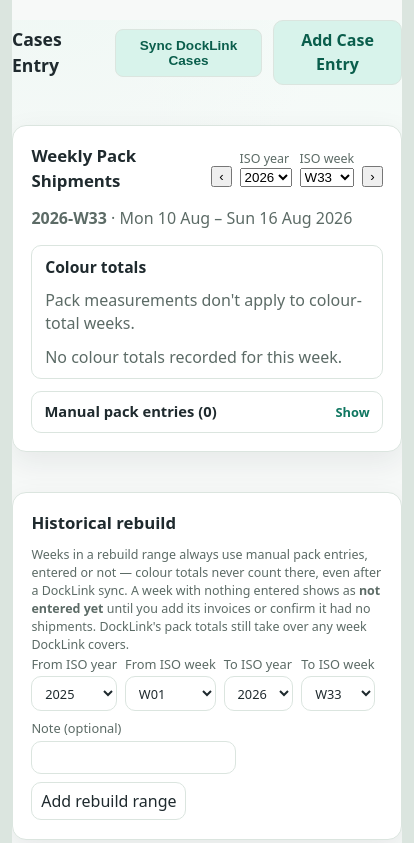
desktop Sync DockLink Cases — pinned behaviour › a real pack sync failure is shown as an error after the colour sync's summary
Click the button "Sync DockLink Cases" at coordinates (188, 52), box x1=115 y1=28 x2=262 y2=76
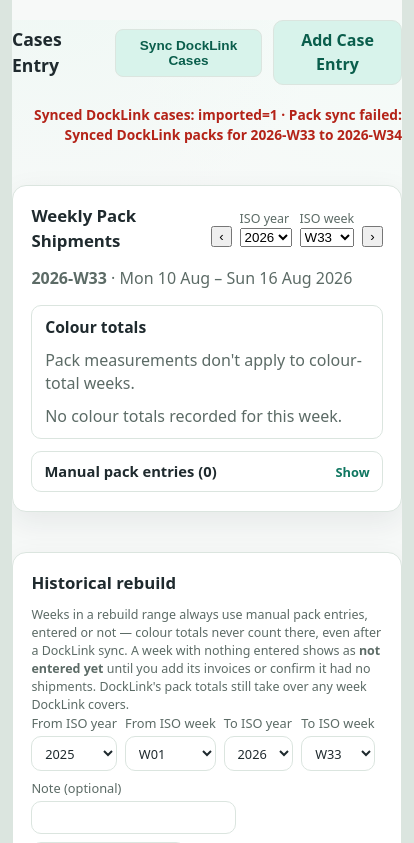
Expected: the message shows "Synced DockLink cases: imported=1 · Pack sync failed:", x1=34 y1=105 x2=402 y2=144
